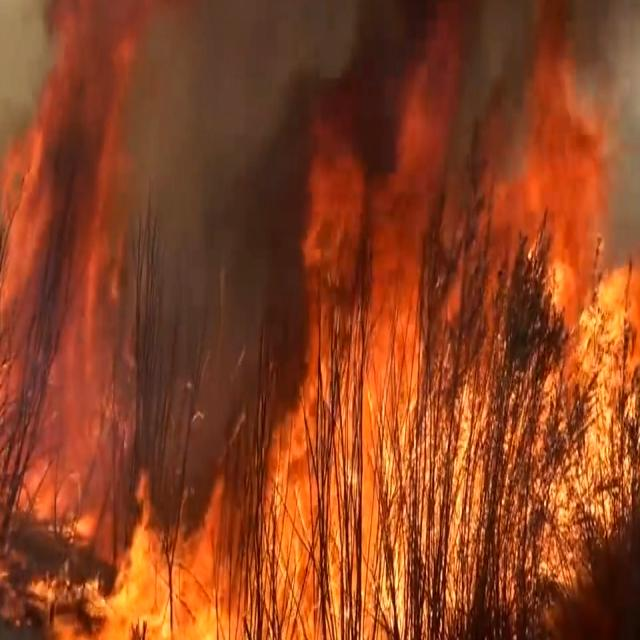fire: (187, 51, 458, 640), (0, 0, 203, 616), (488, 166, 640, 365)
smoke: (223, 0, 299, 168)
